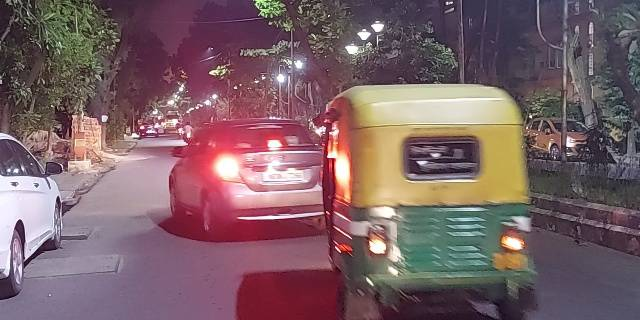Autorickshaw: (320, 83, 535, 317)
Car: (168, 120, 320, 239)
